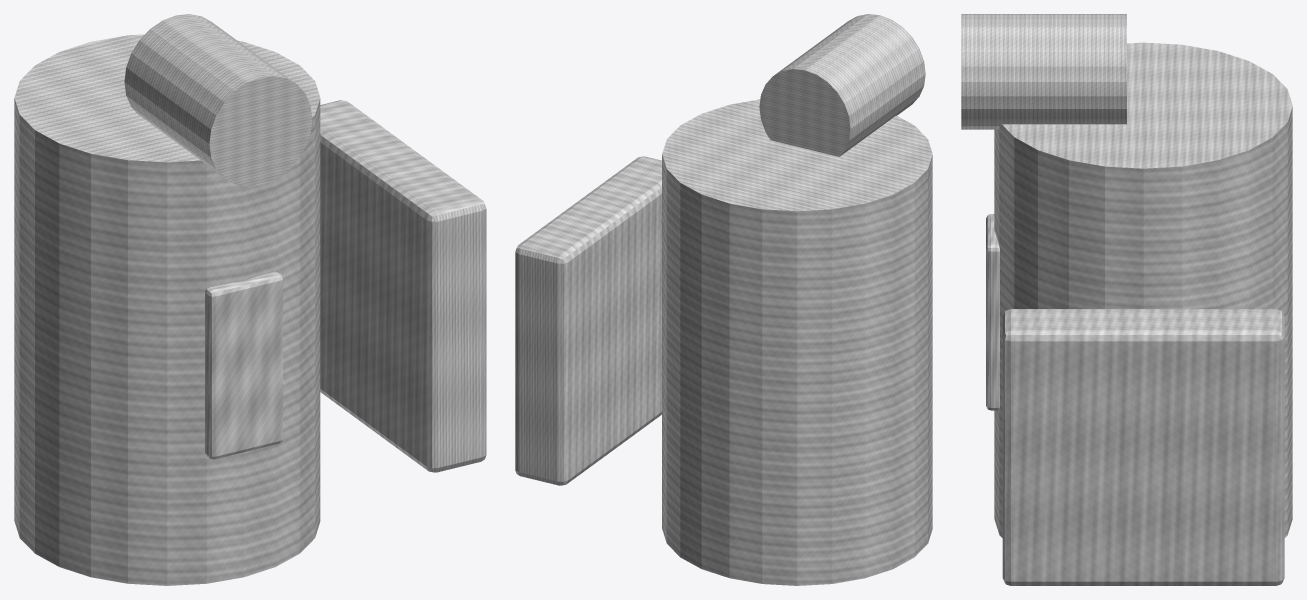
The model's file is consumable-medicinal-inhaler_variant_b.glb.
The picture shows the model from 3 angles, left to right: view 1: azimuth 30°, elevation 25°; view 2: azimuth 150°, elevation 25°; view 3: azimuth 270°, elevation 25°; orthographic projection. The views are drawn at different scales.
Parts seen in each view (by area): view 1: Consumable canister.002, Variant reinforcement, Mouthpiece.001, Dose window.001; view 2: Consumable canister.002, Variant reinforcement, Mouthpiece.001; view 3: Variant reinforcement, Consumable canister.002, Mouthpiece.001, Dose window.001.
Boxes of the visible parts, box(x1,y1,x2,y2) form: Consumable canister.002: box(14, 34, 320, 585); Variant reinforcement: box(320, 100, 486, 472); Mouthpiece.001: box(124, 14, 312, 186); Dose window.001: box(205, 271, 282, 459); Consumable canister.002: box(662, 99, 932, 585); Variant reinforcement: box(515, 156, 661, 485); Mouthpiece.001: box(759, 14, 925, 156); Variant reinforcement: box(1002, 309, 1284, 585); Consumable canister.002: box(994, 42, 1292, 537); Mouthpiece.001: box(961, 14, 1126, 129); Dose window.001: box(986, 214, 999, 410).
Size of what is drawn, in the model's own units: 0.52 by 0.665 by 0.4.
Materials: 4 (4 with a texture image).
